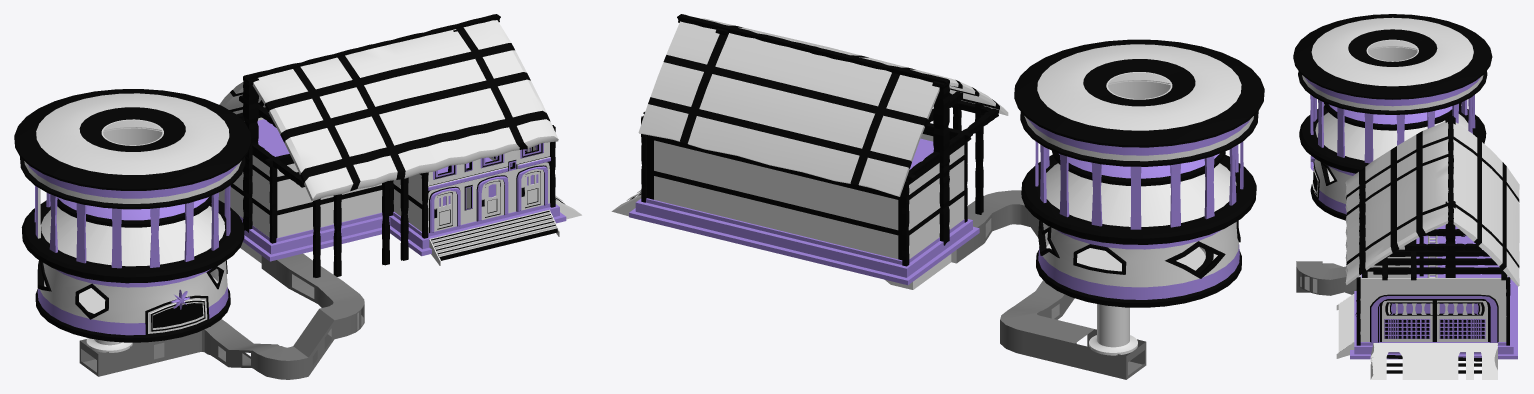
File: StableandBathhouse.fbx
3 views of the same model, side by side, from view 1: azimuth 30°, elevation 25°; view 2: azimuth 150°, elevation 25°; view 3: azimuth 270°, elevation 25° (orthographic). The views are drawn at different scales.
Visible parts, largest first — view 1: BathhouseBase, Cube.010, TunnelUnderground, Logs, StableWall01.001, StableBase, BackStableWall.001, Steps.001, BackStableWall.003, DoorBathhouse, BackStableWall.002, MiddleBarnDoor (+4 smaller); view 2: BathhouseBase, Cube.011, BackStableWall, TunnelUnderground, Logs, StableBase, BackStableWall.003, Cube.010; view 3: BathhouseBase, Cube.010, Cube.011, Logs, StableRightWall, Stablebigdoorramp, StableBase, BigBarnDoors, BigBarnDoors.001, TunnelUnderground, Steps.001, rampplanks (+1 smaller).
Boxes of the visible parts, left/top/right/bottom form: BathhouseBase: left=14, top=89, right=251, bottom=352; Cube.010: left=252, top=20, right=558, bottom=201; TunnelUnderground: left=79, top=253, right=364, bottom=379; Logs: left=236, top=14, right=555, bottom=277; StableWall01.001: left=427, top=142, right=550, bottom=233; StableBase: left=239, top=157, right=566, bottom=261; BackStableWall.001: left=275, top=161, right=382, bottom=238; Steps.001: left=430, top=210, right=557, bottom=260; BackStableWall.003: left=218, top=152, right=270, bottom=237; DoorBathhouse: left=148, top=298, right=207, bottom=333; BackStableWall.002: left=393, top=173, right=422, bottom=231; MiddleBarnDoor: left=481, top=179, right=504, bottom=219; BathhouseBase: left=1014, top=39, right=1264, bottom=355; Cube.011: left=638, top=21, right=939, bottom=196; BackStableWall: left=646, top=135, right=902, bottom=260; TunnelUnderground: left=951, top=190, right=1146, bottom=379; Logs: left=641, top=14, right=999, bottom=266; StableBase: left=629, top=198, right=979, bottom=285; BackStableWall.003: left=908, top=141, right=964, bottom=259; Cube.010: left=701, top=18, right=1008, bottom=115; BathhouseBase: left=1293, top=14, right=1492, bottom=220; Cube.010: left=1345, top=121, right=1448, bottom=284; Cube.011: left=1453, top=122, right=1519, bottom=286; Logs: left=1356, top=116, right=1510, bottom=345; StableRightWall: left=1361, top=278, right=1506, bottom=342; Stablebigdoorramp: left=1370, top=343, right=1497, bottom=379; StableBase: left=1350, top=236, right=1517, bottom=359; BigBarnDoors: left=1434, top=299, right=1489, bottom=341; BigBarnDoors.001: left=1379, top=299, right=1434, bottom=341; TunnelUnderground: left=1296, top=261, right=1356, bottom=295; Steps.001: left=1338, top=294, right=1354, bottom=352; rampplanks: left=1386, top=355, right=1481, bottom=373.
Size of the model in its own units: 26417 by 11810 by 11460.
